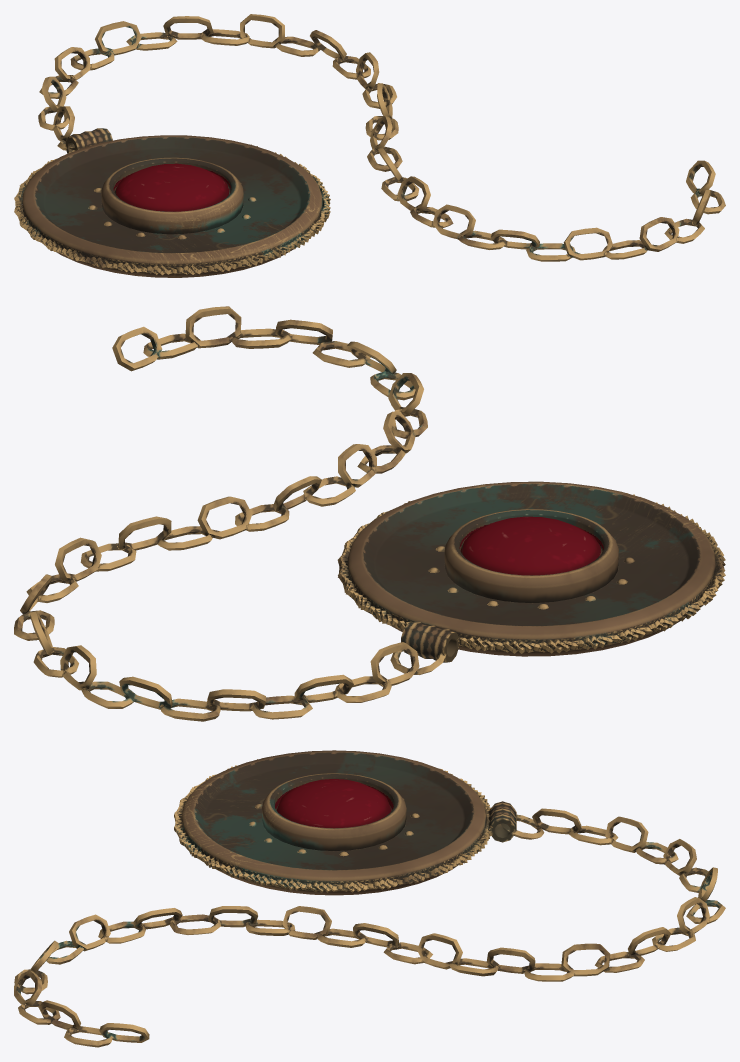
The model's file is SM_Amulet.glb.
The picture shows the model from 3 angles, top to bottom: view 1: azimuth 30°, elevation 25°; view 2: azimuth 150°, elevation 25°; view 3: azimuth 270°, elevation 25°; orthographic projection. The views are drawn at different scales.
Visible parts, largest first — view 1: SM_Amulet; view 2: SM_Amulet; view 3: SM_Amulet.
Boxes of the visible parts, box(x1,y1,x2,y2) form: SM_Amulet: box(14, 14, 725, 277); SM_Amulet: box(14, 306, 725, 721); SM_Amulet: box(14, 750, 725, 1047).
Bounding box in the file's own units: 0.0976 × 0.00712 × 0.1032.
Materials: 1 (1 with a texture image).
